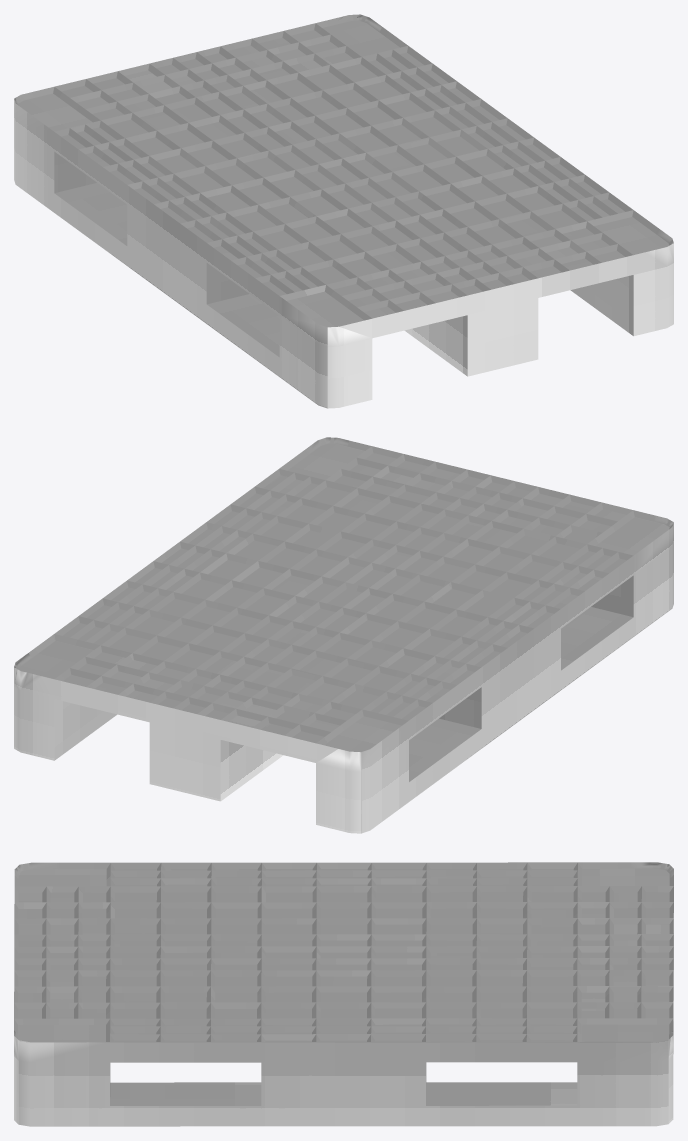
The model's file is PlasticPalletEuro.glb.
3 views of the same model, one above another, from view 1: azimuth 30°, elevation 25°; view 2: azimuth 150°, elevation 25°; view 3: azimuth 270°, elevation 25° (orthographic). The views are drawn at different scales.
Parts seen in each view (by area): view 1: PlasticPalletEuro; view 2: PlasticPalletEuro; view 3: PlasticPalletEuro.
Boxes of the visible parts, x1=… form: PlasticPalletEuro: x1=14, y1=14, x2=673, y2=408; PlasticPalletEuro: x1=14, y1=437, x2=673, y2=833; PlasticPalletEuro: x1=14, y1=862, x2=673, y2=1126.
Size of the model in its own units: 0.7539 by 0.165 by 1.17.
1 material, 1 textured.
